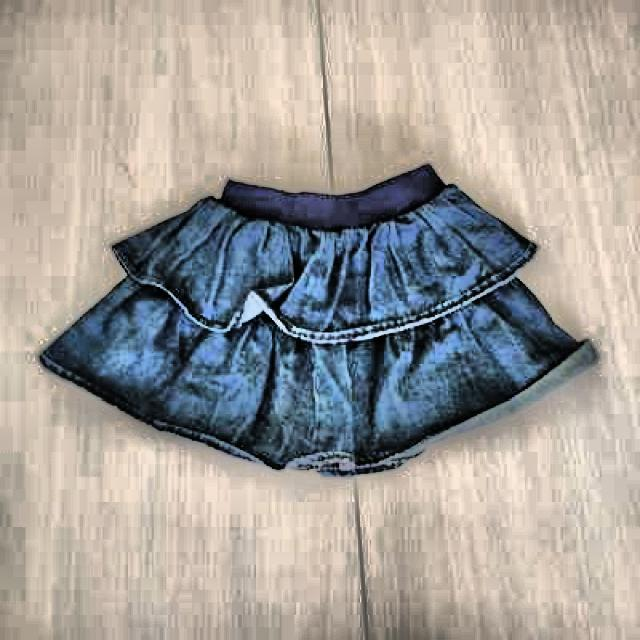clothes: (41, 162, 597, 475)
